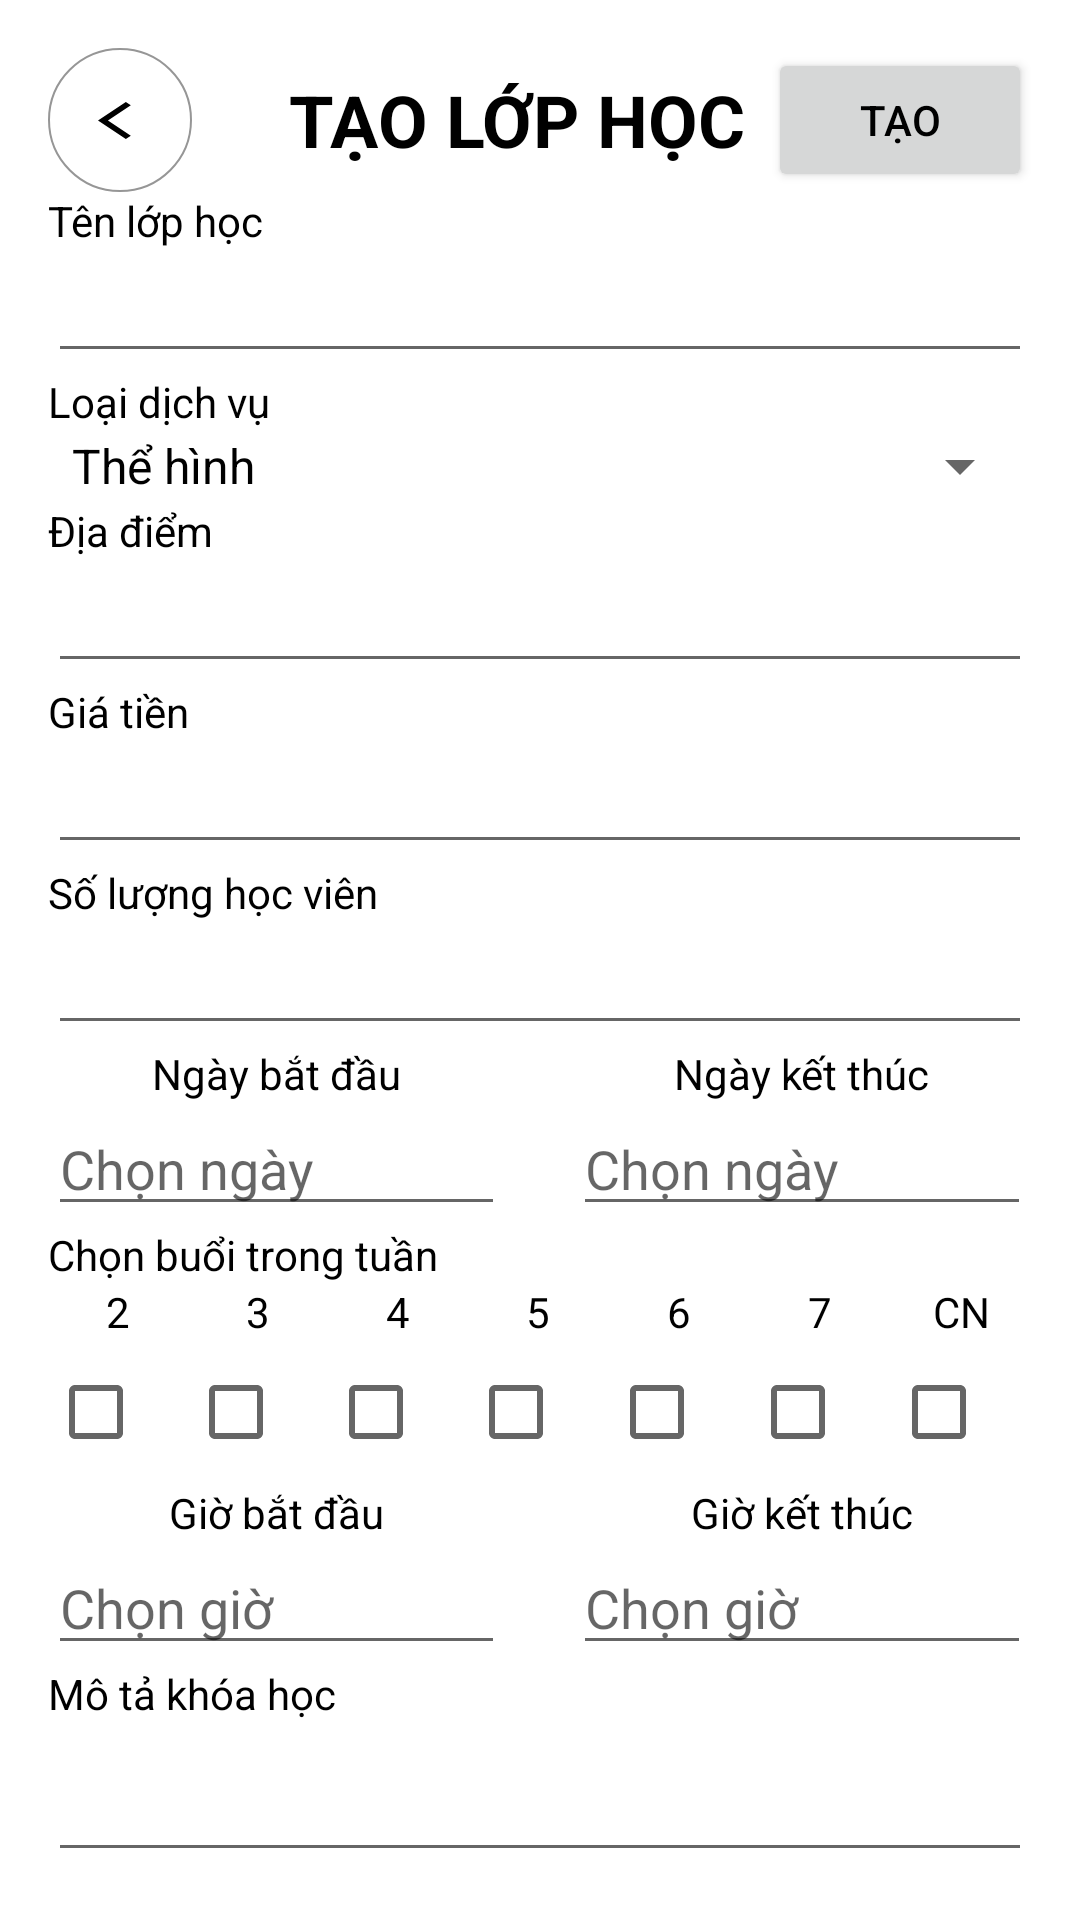

Icon bounding boxes for this 1080px x 1920px phone screenshot, format [x1,y1,x2,y2]:
back1: [48,48,192,192]
